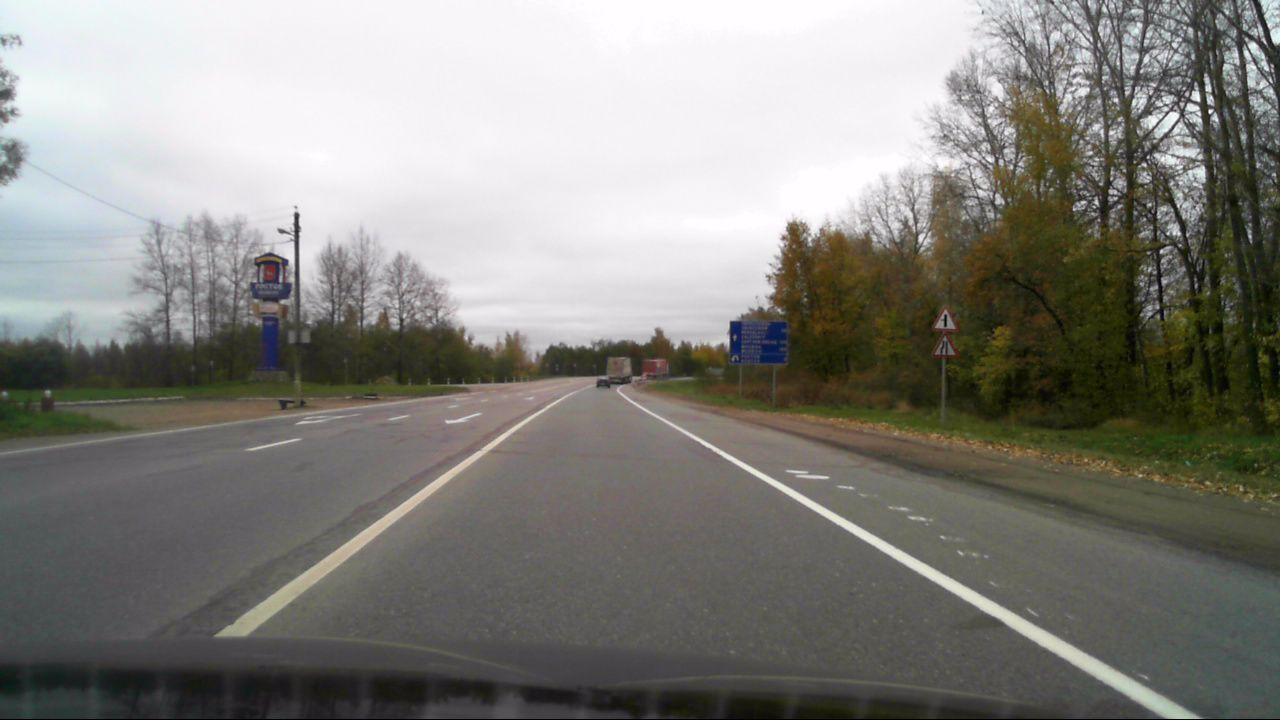1_20_3: (933, 333, 956, 357)
2_3_3: (931, 305, 961, 331)
6_9_1: (729, 319, 789, 364)
